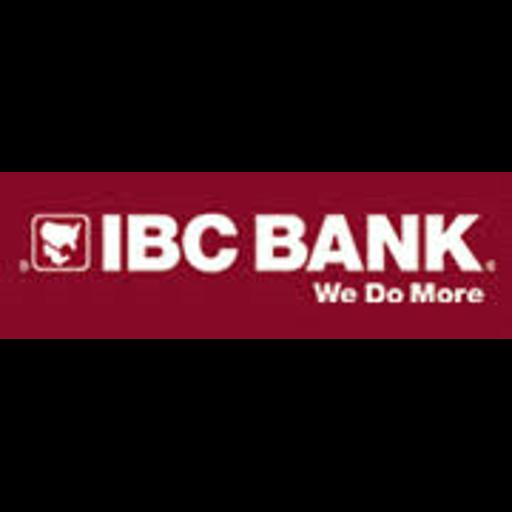IBC Bank: (0, 172, 512, 339)
